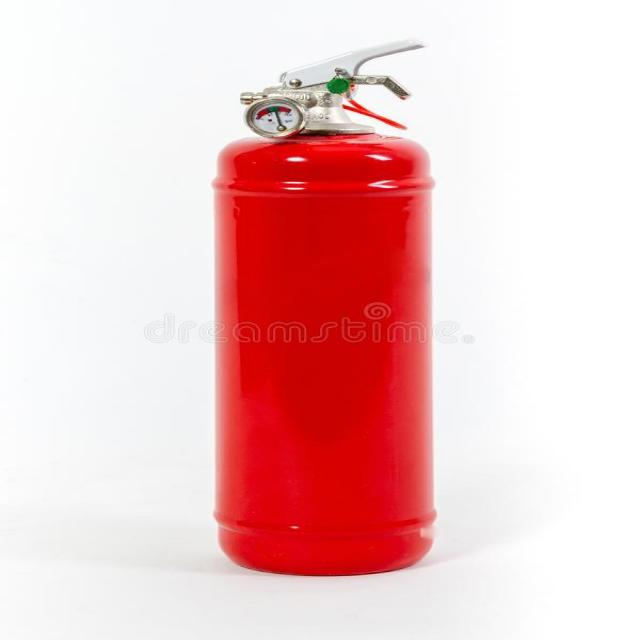fire_extinguisher: (203, 37, 443, 578)
